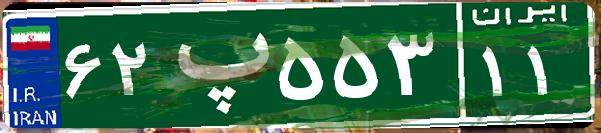1: (475, 38, 525, 113), (525, 38, 570, 115)
2: (110, 28, 158, 105)
3: (385, 28, 445, 110)
5: (273, 28, 330, 110), (330, 28, 385, 110)
6: (57, 26, 110, 107)
پ: (158, 15, 273, 115)
